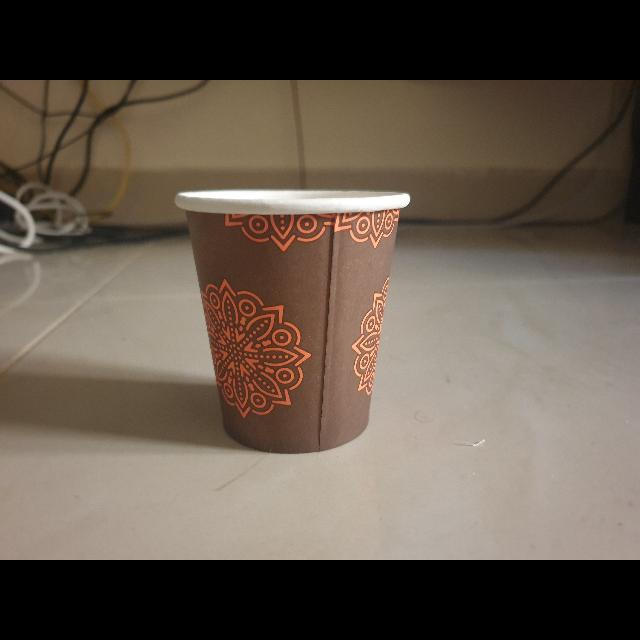trash: (172, 181, 420, 464)
